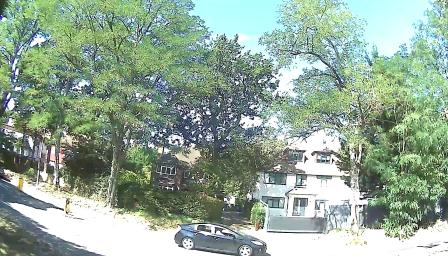Cars: (173, 217, 279, 249)
